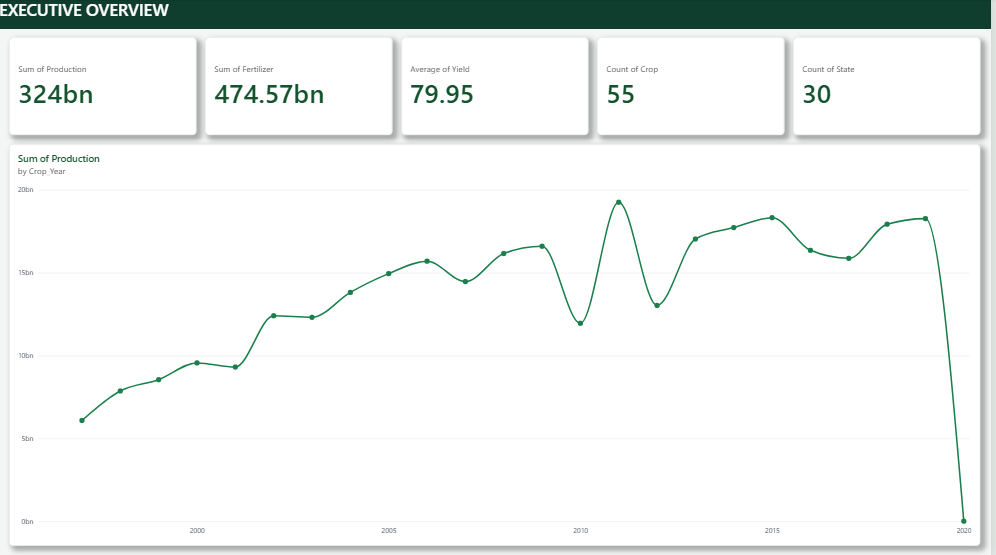

What the dashboard file says about the page in this screenshot:
{"tool":"powerbi","page":{"name":"Executive Overview","canvas":[1920,1080],"ordinal":0},"visuals":[{"type":"cardVisual","fields":{"Data":["Sum(crop_yield.Production)"]},"box":[20,76,363.2,190],"z":1},{"type":"cardVisual","fields":{"Data":["Avg(crop_yield.Yield)"]},"box":[778.4,76,363.2,190],"z":2},{"type":"cardVisual","fields":{"Data":["Sum(crop_yield.Fertilizer)"]},"box":[399.2,76,363.2,190],"z":3},{"type":"cardVisual","fields":{"Data":["Count(crop_yield.Crop)"]},"box":[1157.6,76,363.2,190],"z":4},{"type":"cardVisual","fields":{"Data":["Count(crop_yield.State)"]},"box":[1536.8,76,363.2,190],"z":5},{"type":"lineChart","fields":{"Category":["crop_yield.Crop_Year"],"Y":["Sum(crop_yield.Production)"]},"box":[20,282,1880,778],"z":6},{"type":"textbox","box":[0,0,1920,60],"z":7}]}

Visuals, with their boxes in screenshot pixels (x1, y1, x2, y2), scaled from the page's 1920x1080 canvas onto the 996x555 screenshot:
cardVisual - Sum(crop_yield.Production): 10, 39, 199, 137
cardVisual - Avg(crop_yield.Yield): 404, 39, 592, 137
cardVisual - Sum(crop_yield.Fertilizer): 207, 39, 395, 137
cardVisual - Count(crop_yield.Crop): 601, 39, 789, 137
cardVisual - Count(crop_yield.State): 797, 39, 986, 137
lineChart - crop_yield.Crop_Year x Sum(crop_yield.Production): 10, 145, 986, 545
textbox: 0, 0, 995, 31
